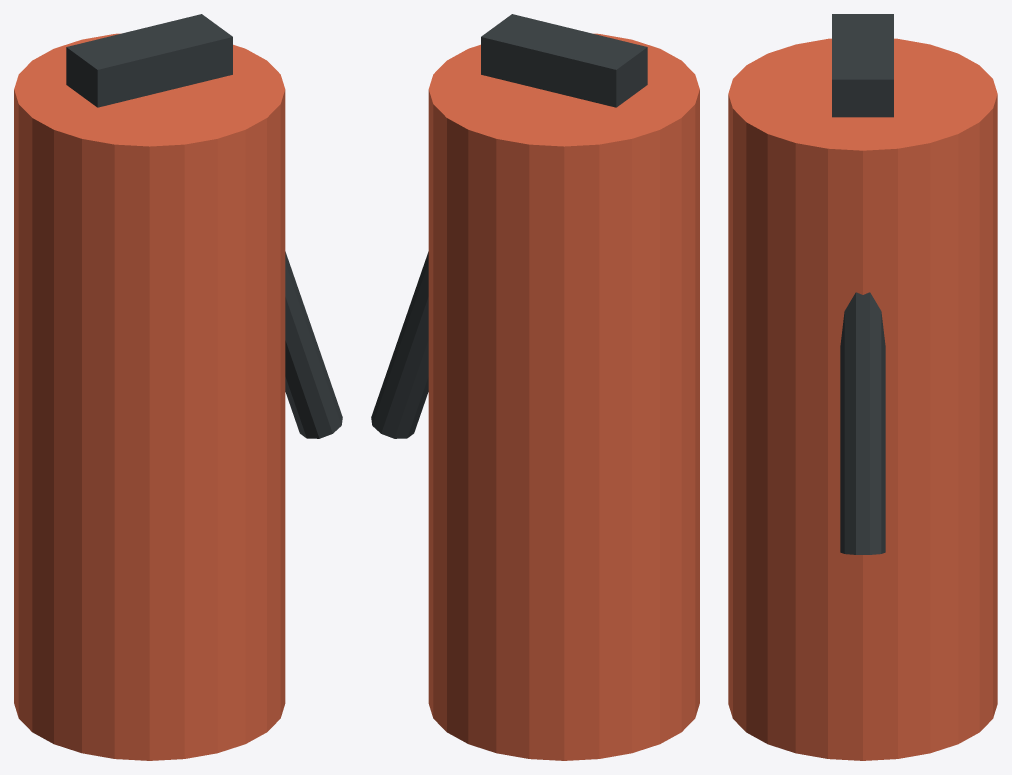
File: grand-prix-circuit-and-open-wheel-extinguisher-post-be46478e__15217.glb
The picture shows the model from 3 angles, left to right: view 1: azimuth 30°, elevation 25°; view 2: azimuth 150°, elevation 25°; view 3: azimuth 270°, elevation 25°; orthographic projection.
Parts seen in each view (by area): view 1: extinguisher-post; view 2: extinguisher-post; view 3: extinguisher-post.
Boxes of the visible parts, box(x1,y1,x2,y2) form: extinguisher-post: box(14, 14, 342, 760); extinguisher-post: box(371, 14, 699, 760); extinguisher-post: box(728, 14, 997, 760).
Size of the model in its own units: 0.3398 by 0.7 by 0.26.
